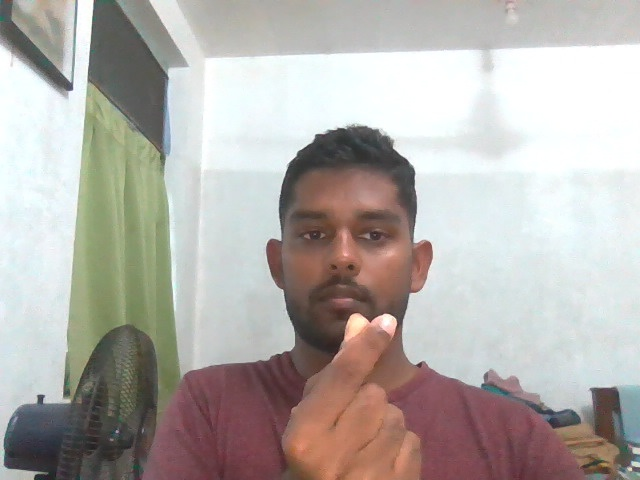iloveyou: (269, 300, 434, 480)
